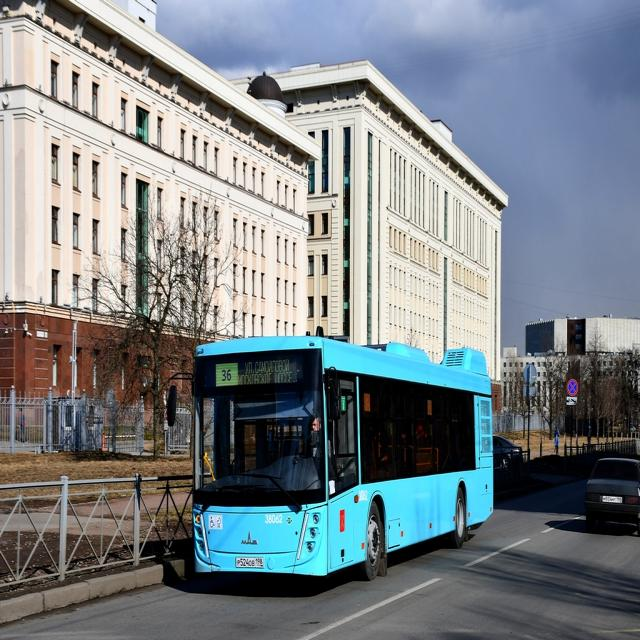number-of-bus: (222, 367, 234, 384)
